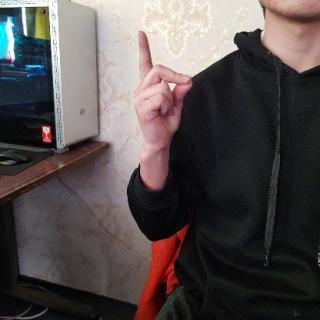TAA: (125, 28, 202, 158)
